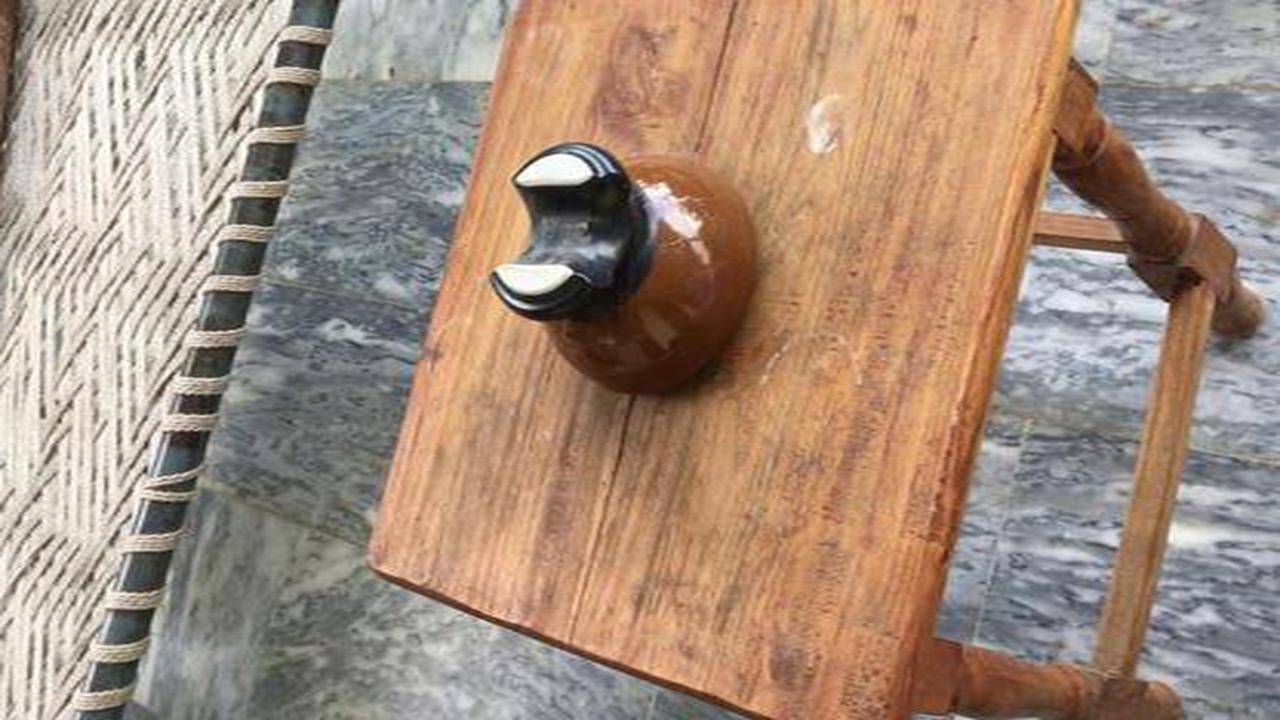insulator_pin: (477, 134, 779, 414)
